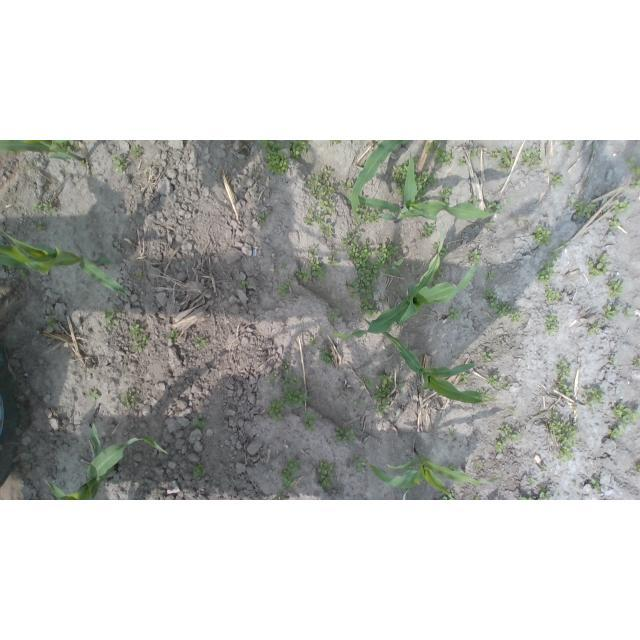Maize: (334, 251, 478, 339), (364, 316, 494, 404), (345, 154, 495, 222), (0, 228, 132, 302), (44, 425, 168, 500), (371, 448, 502, 500), (352, 140, 406, 222), (0, 140, 84, 162)
Weeds: (304, 165, 336, 236), (348, 241, 380, 300), (267, 389, 311, 424), (256, 141, 292, 176), (547, 420, 577, 462), (376, 243, 404, 276), (374, 373, 395, 416), (487, 287, 512, 319), (414, 172, 436, 203), (280, 458, 300, 492), (582, 386, 606, 413), (427, 140, 454, 164), (393, 159, 410, 197), (567, 198, 597, 219), (556, 360, 573, 397), (613, 404, 640, 427), (587, 252, 608, 281), (309, 245, 326, 280), (317, 459, 335, 491), (353, 204, 379, 225), (129, 323, 148, 351), (535, 260, 555, 286), (360, 293, 380, 319), (521, 150, 542, 171), (496, 423, 520, 441), (288, 140, 309, 160), (533, 224, 552, 246), (341, 225, 361, 244), (499, 148, 514, 173), (608, 278, 624, 300), (120, 389, 138, 408), (32, 203, 56, 217), (336, 427, 356, 443), (612, 199, 632, 215), (114, 155, 131, 173), (545, 288, 563, 305), (351, 455, 367, 474), (303, 412, 317, 433), (280, 375, 301, 389), (337, 179, 354, 196), (545, 314, 559, 334), (105, 308, 120, 326), (604, 304, 620, 320), (328, 307, 345, 322), (296, 268, 311, 285), (549, 172, 564, 189), (439, 185, 451, 206), (61, 140, 80, 153), (191, 415, 207, 430), (319, 350, 335, 365), (257, 211, 271, 228), (608, 427, 624, 441), (466, 249, 480, 265), (476, 389, 492, 403), (275, 284, 290, 298), (487, 202, 505, 213), (423, 222, 437, 236), (129, 146, 144, 159), (328, 251, 340, 267), (588, 323, 601, 337), (192, 465, 204, 480), (448, 309, 460, 324), (537, 487, 550, 500), (549, 249, 562, 262), (509, 310, 523, 322), (486, 374, 500, 386), (608, 217, 620, 231), (548, 405, 559, 420), (167, 328, 179, 341), (88, 388, 101, 400), (495, 440, 507, 453), (442, 489, 455, 500), (439, 247, 449, 261), (590, 478, 601, 490), (482, 352, 494, 363), (459, 370, 469, 383), (396, 379, 406, 392), (560, 141, 574, 150), (195, 338, 206, 349), (501, 380, 512, 391), (281, 362, 292, 373), (47, 316, 57, 328), (33, 221, 45, 231), (444, 464, 459, 472), (471, 195, 481, 205), (624, 309, 633, 320), (20, 267, 29, 277), (447, 428, 457, 437), (362, 380, 372, 389), (22, 161, 32, 170), (631, 179, 640, 189), (435, 266, 444, 276), (309, 337, 317, 348), (632, 165, 640, 176), (517, 495, 534, 500), (273, 494, 287, 500), (329, 141, 341, 148), (240, 280, 249, 289), (628, 157, 637, 166), (471, 148, 478, 159), (411, 156, 419, 165), (79, 161, 89, 168), (610, 355, 616, 366), (408, 460, 416, 468), (271, 371, 279, 379), (488, 271, 495, 280), (492, 148, 499, 157), (634, 358, 640, 368), (136, 272, 143, 280), (509, 407, 516, 415), (476, 460, 483, 468), (528, 478, 536, 485), (560, 241, 568, 248), (268, 380, 275, 388), (459, 157, 466, 165), (634, 464, 640, 473), (410, 263, 419, 269), (540, 463, 546, 471), (83, 449, 89, 457), (432, 243, 439, 249), (488, 222, 495, 228), (91, 174, 98, 179), (359, 162, 366, 167), (432, 279, 437, 286), (472, 496, 480, 500), (320, 331, 325, 337), (537, 409, 542, 415), (281, 262, 288, 266), (420, 236, 425, 241), (572, 404, 577, 409), (347, 200, 351, 204), (396, 236, 400, 240)
